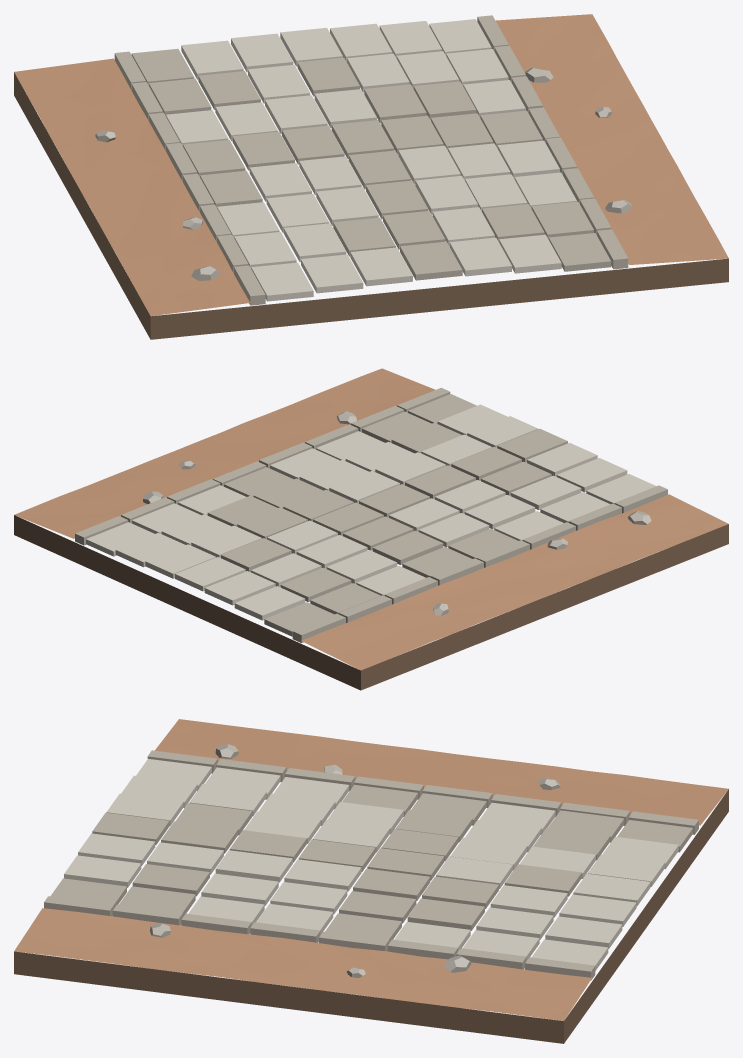
File: south_indian_village_main_road_8x8.glb
3 views of the same model, one above another, from view 1: azimuth 30°, elevation 25°; view 2: azimuth 150°, elevation 25°; view 3: azimuth 270°, elevation 25° (orthographic). The views are drawn at different scales.
Parts seen in each view (by area): view 1: Granite_Paved_Carriageway, Laterite_Shoulder_Right, Laterite_Shoulder_Left, Road_Foundation_Skirt, Granite_Kerb_Borders; view 2: Granite_Paved_Carriageway, Laterite_Shoulder_Right, Laterite_Shoulder_Left, Road_Foundation_Skirt, Granite_Kerb_Borders; view 3: Granite_Paved_Carriageway, Laterite_Shoulder_Left, Laterite_Shoulder_Right, Road_Foundation_Skirt, Granite_Kerb_Borders.
Boxes of the visible parts, x1=… form: Granite_Paved_Carriageway: x1=131, y1=19, x2=611, y2=301; Laterite_Shoulder_Right: x1=14, y1=58, x2=249, y2=316; Laterite_Shoulder_Left: x1=496, y1=14, x2=728, y2=264; Road_Foundation_Skirt: x1=14, y1=72, x2=728, y2=339; Granite_Kerb_Borders: x1=114, y1=15, x2=628, y2=305; Granite_Paved_Carriageway: x1=86, y1=394, x2=656, y2=636; Laterite_Shoulder_Right: x1=301, y1=494, x2=728, y2=670; Laterite_Shoulder_Left: x1=14, y1=368, x2=435, y2=538; Road_Foundation_Skirt: x1=14, y1=515, x2=728, y2=690; Granite_Kerb_Borders: x1=75, y1=387, x2=667, y2=642; Granite_Paved_Carriageway: x1=50, y1=759, x2=692, y2=970; Laterite_Shoulder_Left: x1=14, y1=908, x2=591, y2=1020; Laterite_Shoulder_Right: x1=155, y1=719, x2=728, y2=825; Road_Foundation_Skirt: x1=14, y1=789, x2=728, y2=1043; Granite_Kerb_Borders: x1=44, y1=750, x2=698, y2=980.
Size of the model in its own units: 9.96 by 0.5689 by 9.96.
